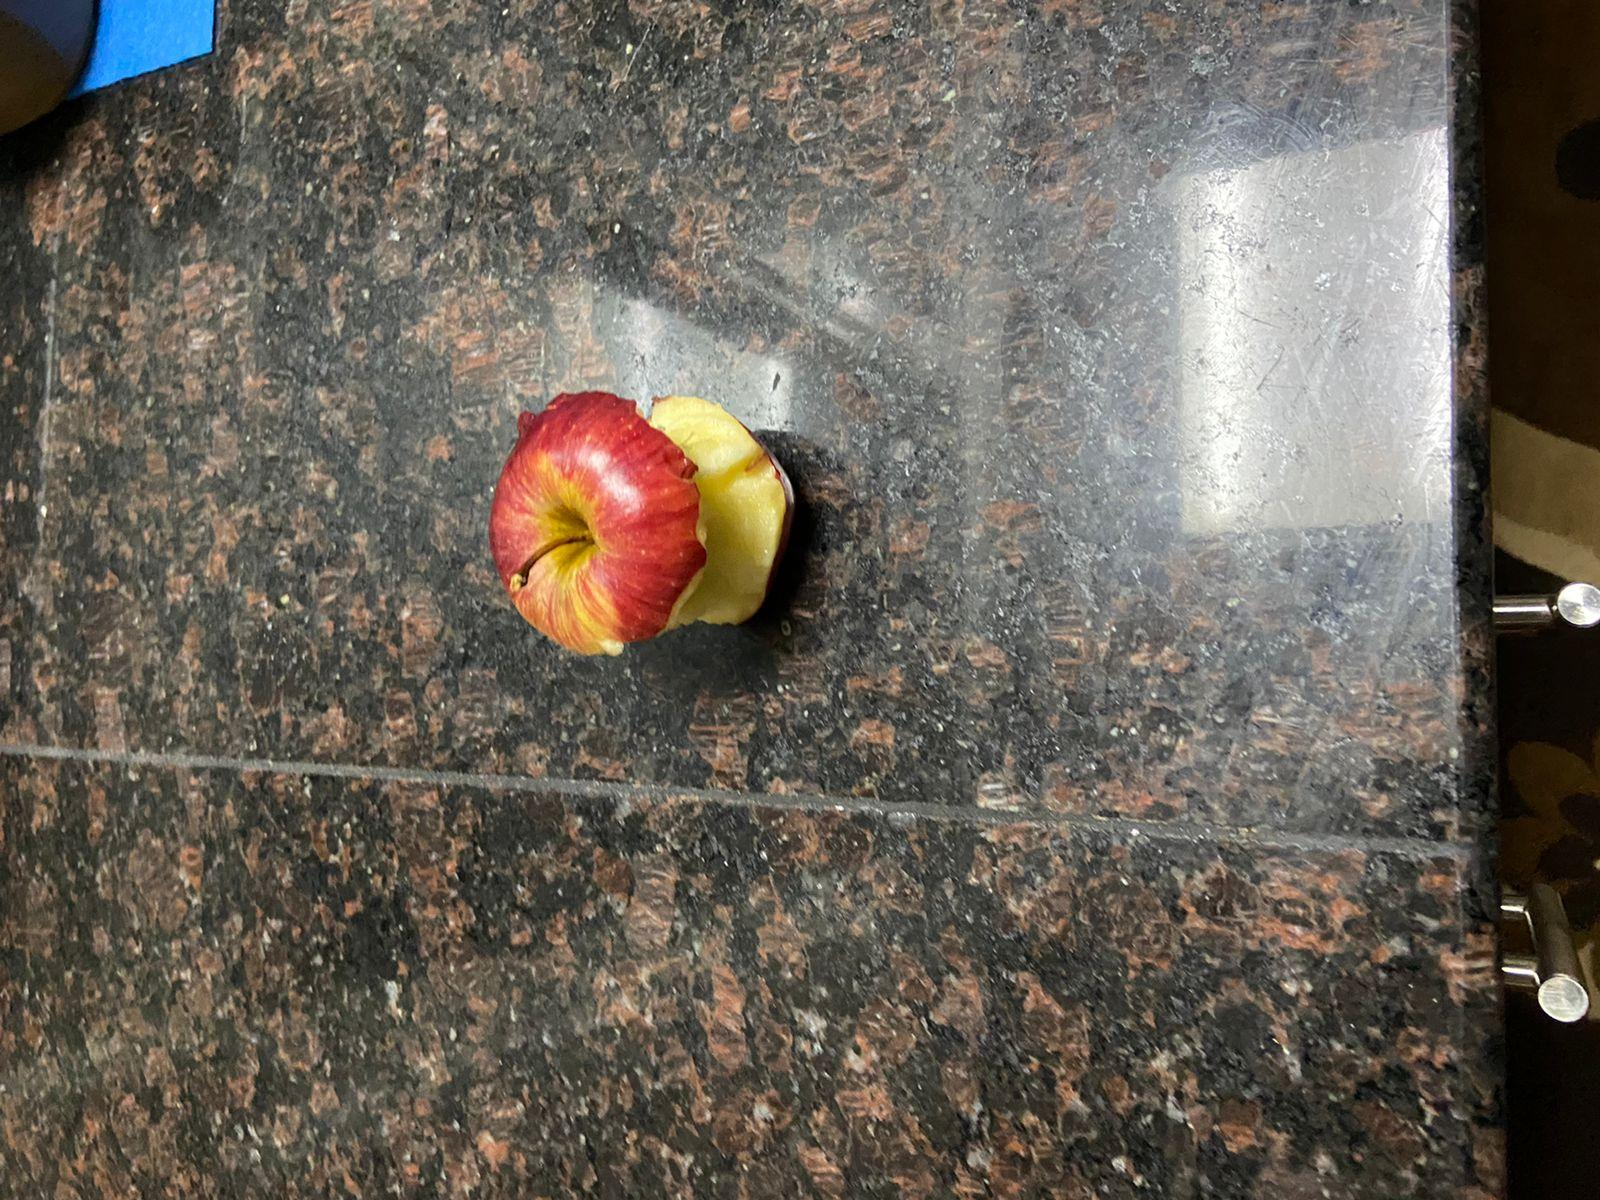Apple: (490, 383, 801, 668)
